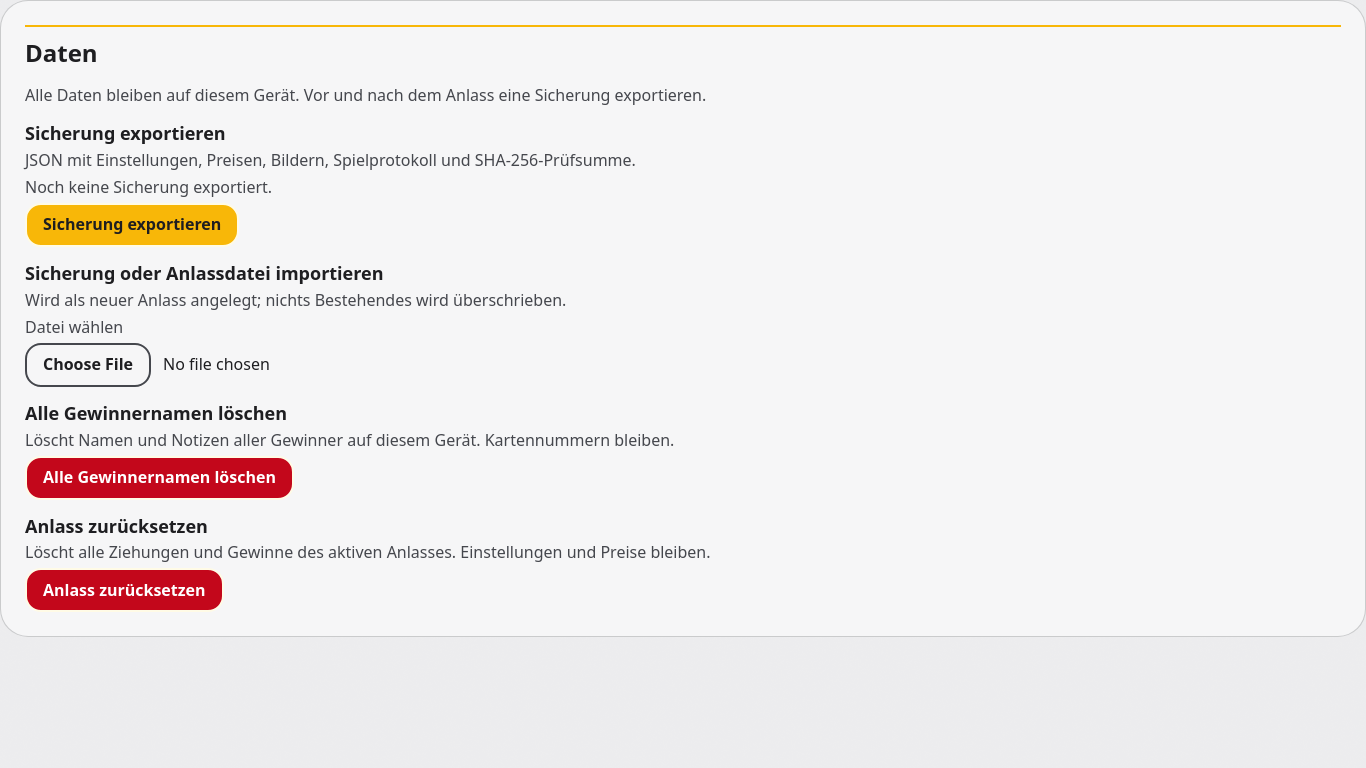
it: Daten › deletes all winner names after confirmation
Later steps or results of the test are not shown.
Click the button "Alle Gewinnernamen löschen".
click(159, 478)  # box [25,456,294,500]
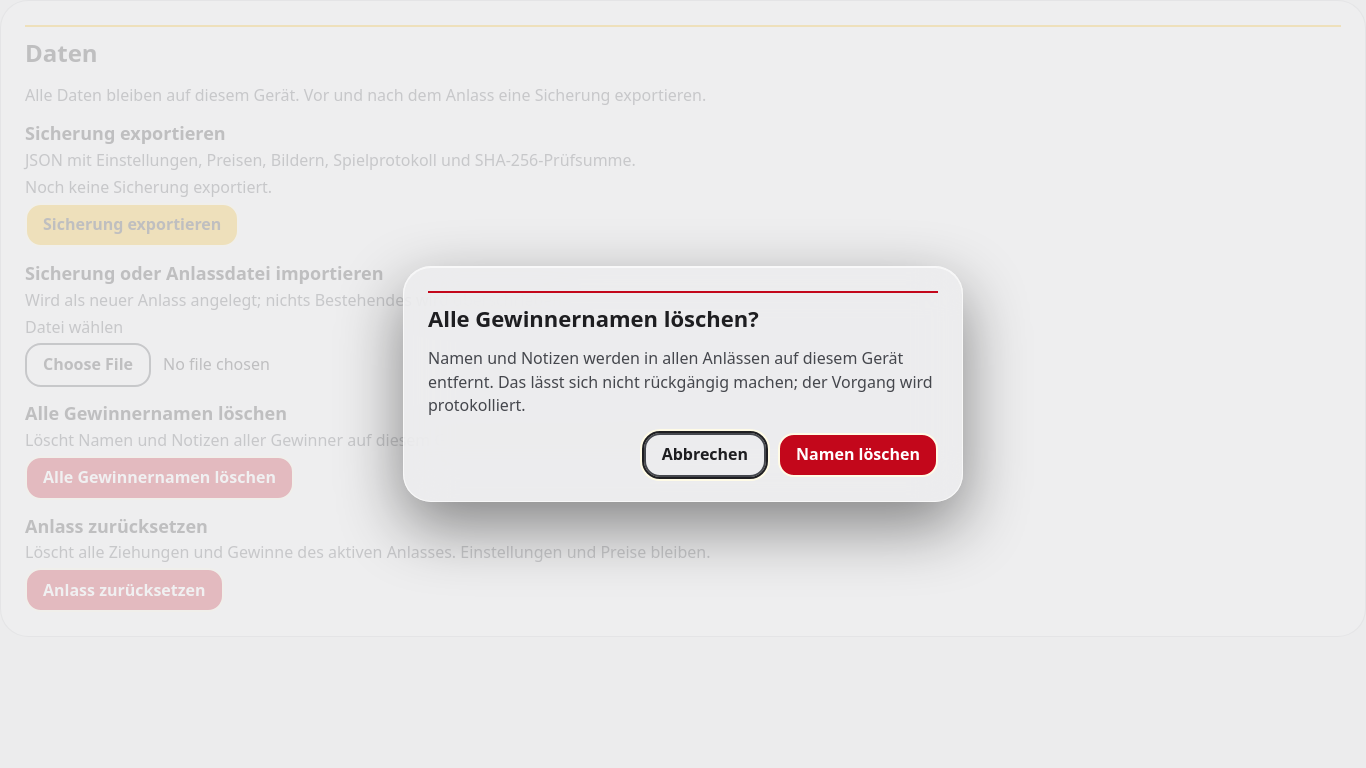
Expected: the text "lässt sich nicht rückgängig machen" is shown, [428,347,933,416]
